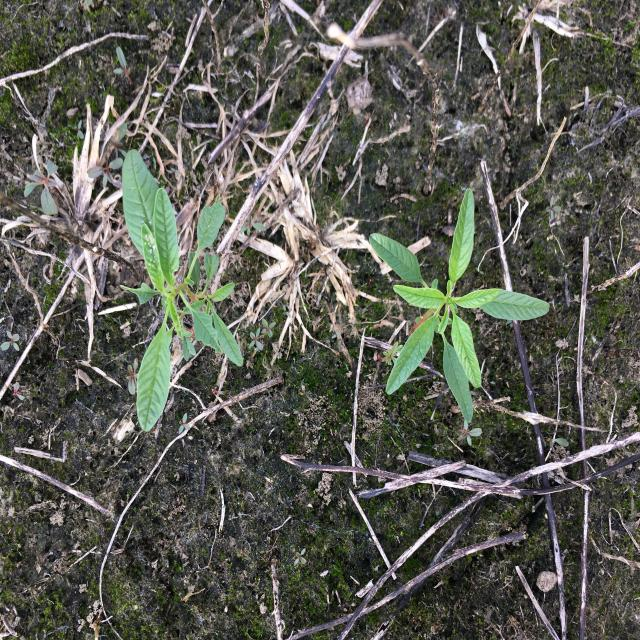Waterhemp: (367, 187, 551, 424), (121, 148, 245, 434)
